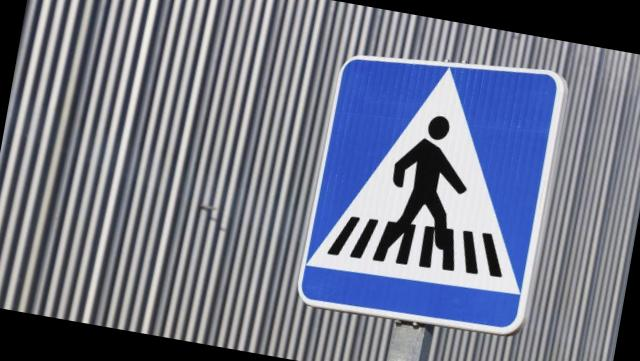crosswalk-sign: (296, 33, 572, 344)
